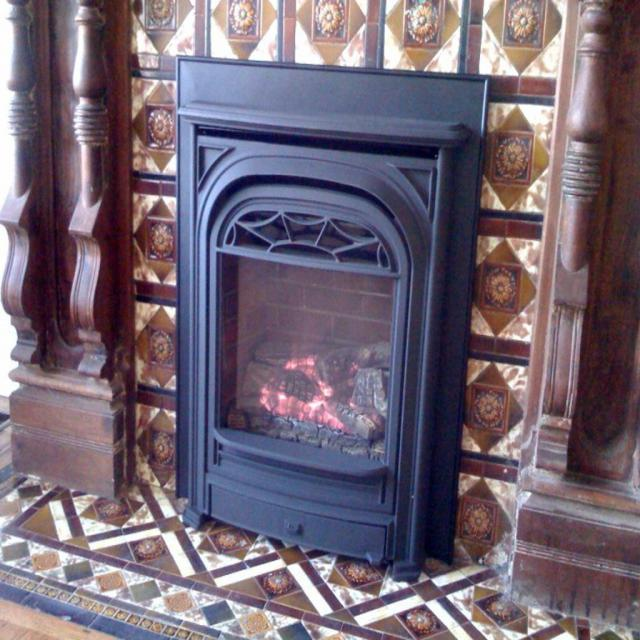Fire: (254, 346, 346, 435)
